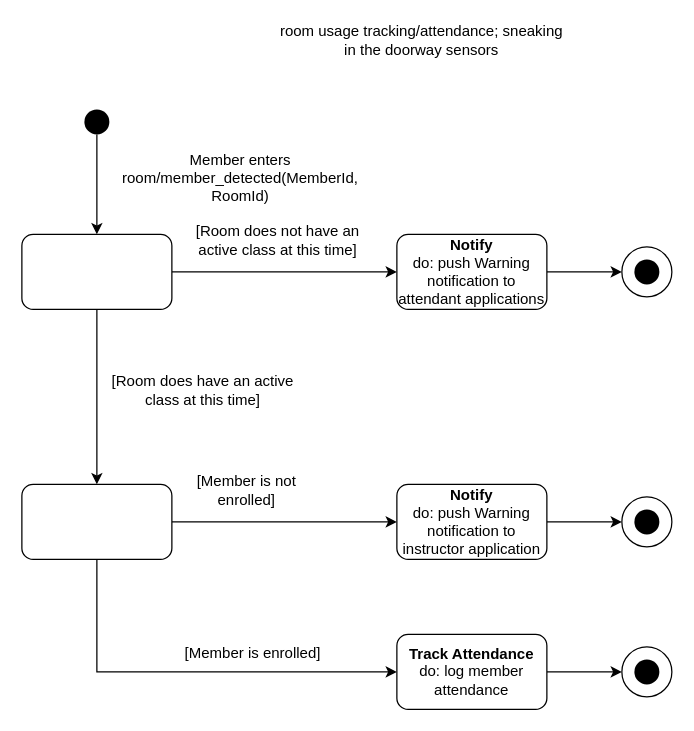
The diagram is 694 pixels wide and 731 high, and some of its shapes have lost their labels. Here are the shapes that lost their labels. From the top down, the centre of each, then its label:
At [96,271]: "do: query class times for that room".
At [96,521]: "do: query members enrolled in that class".
